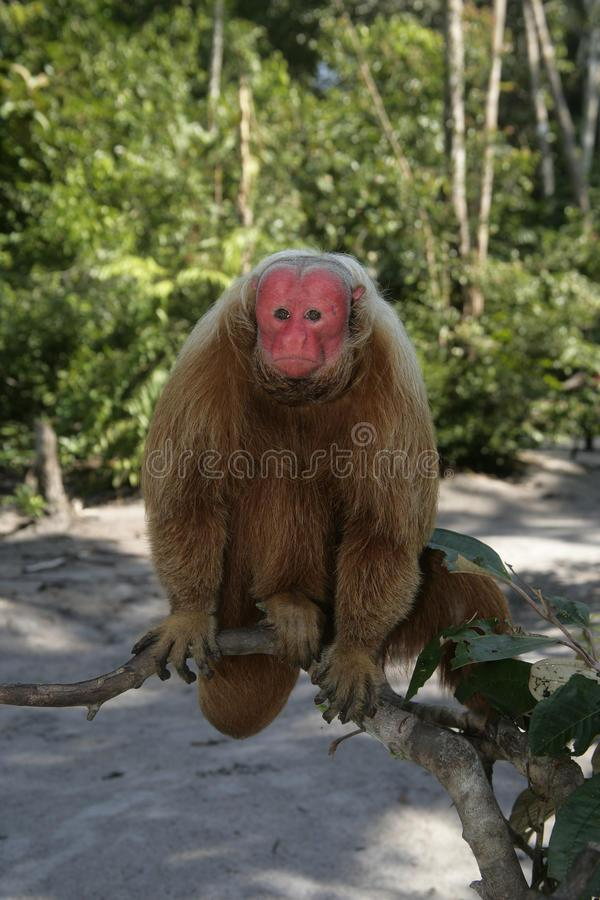monkey: (0, 250, 530, 900)
